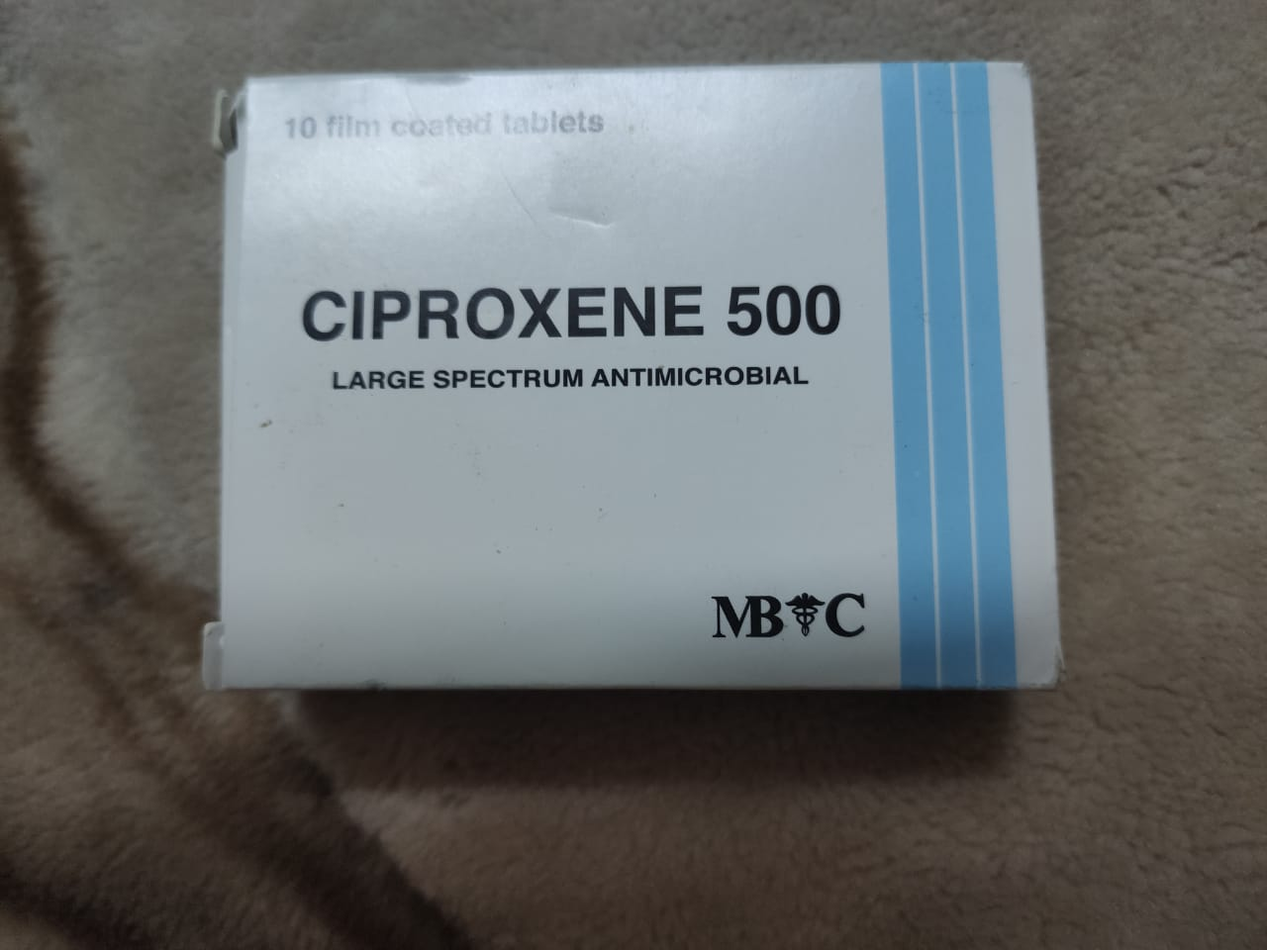Medicine: (195, 57, 1079, 722)
